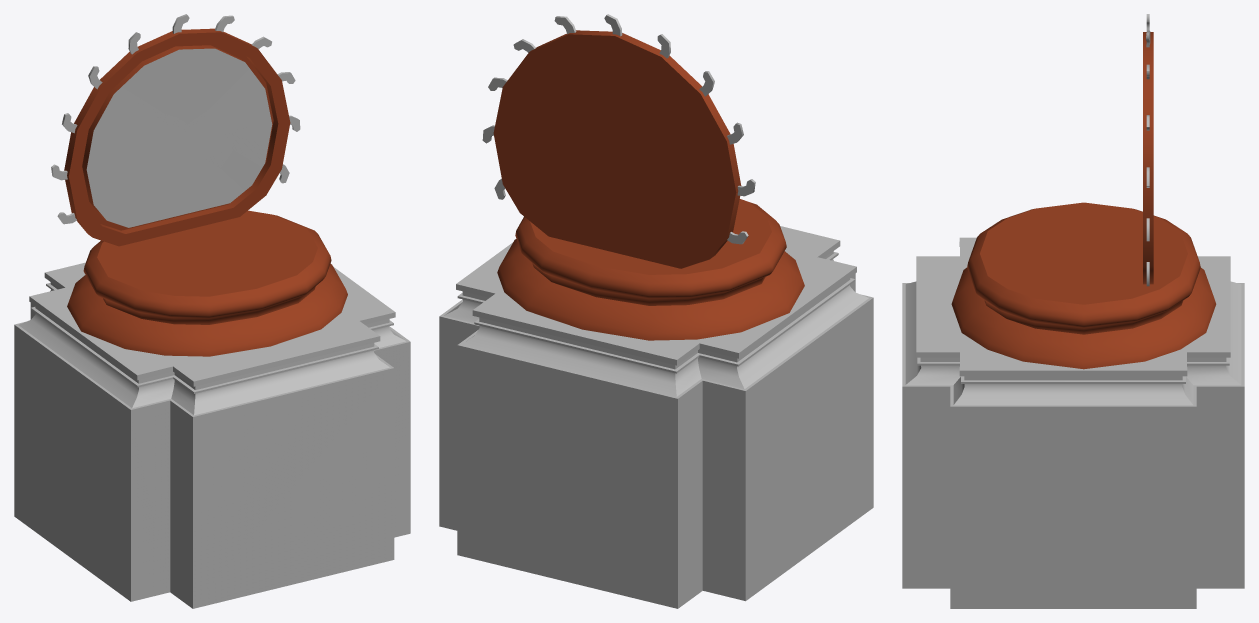
The model's file is baseEstatua.fbx.
3 views of the same model, side by side, from view 1: azimuth 30°, elevation 25°; view 2: azimuth 150°, elevation 25°; view 3: azimuth 270°, elevation 25° (orthographic). The views are drawn at different scales.
Visible parts, largest first — view 1: polySurface45; view 2: polySurface45; view 3: polySurface45.
Part boxes in pixels (x1,y1,x2,y2): polySurface45: (14, 14, 410, 608); polySurface45: (439, 14, 873, 608); polySurface45: (902, 14, 1244, 608).
Bounding box in the file's own units: 111 × 182 × 111.
